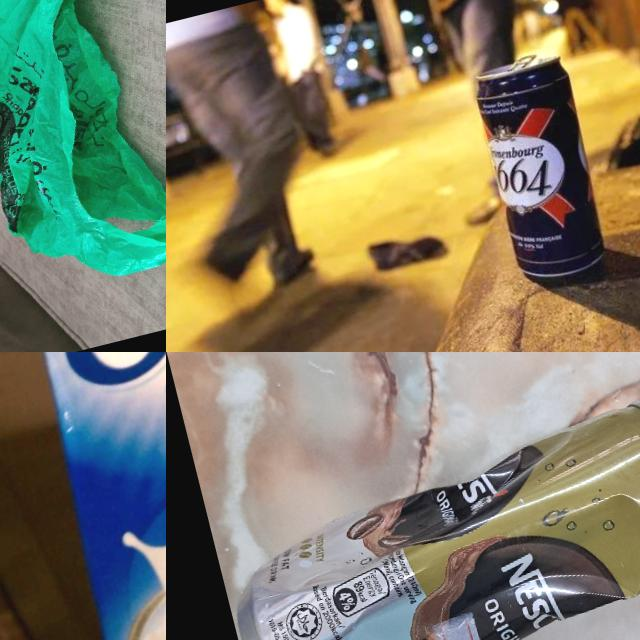aba de lata: (505, 54, 538, 70)
caixinha: (0, 352, 166, 640)
lata: (208, 393, 640, 640), (469, 47, 615, 287)
sacola plástica: (0, 0, 166, 302)
